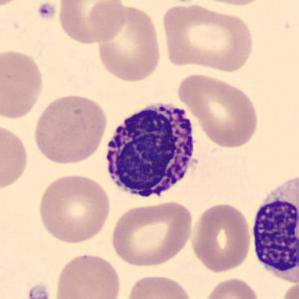Basophil: (99, 95, 202, 206)
Lymphocyte: (246, 169, 299, 286)
Monocyte: (245, 167, 299, 290)
Platelets: (25, 281, 51, 299), (36, 1, 57, 20)
RBC: (158, 1, 256, 74), (174, 71, 262, 150), (108, 200, 196, 268), (31, 92, 110, 166), (93, 1, 163, 84), (36, 171, 113, 246), (188, 201, 254, 274), (52, 251, 124, 299), (0, 47, 46, 121), (55, 0, 127, 46), (0, 120, 31, 193), (123, 272, 195, 299), (200, 275, 261, 299), (190, 0, 271, 7), (278, 280, 298, 299), (0, 0, 30, 8)
